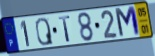1: (20, 19, 31, 48)
2: (101, 9, 120, 40)
8: (77, 12, 95, 43)
M: (114, 5, 142, 39)
Q: (34, 17, 55, 47)
T: (58, 15, 72, 43)
